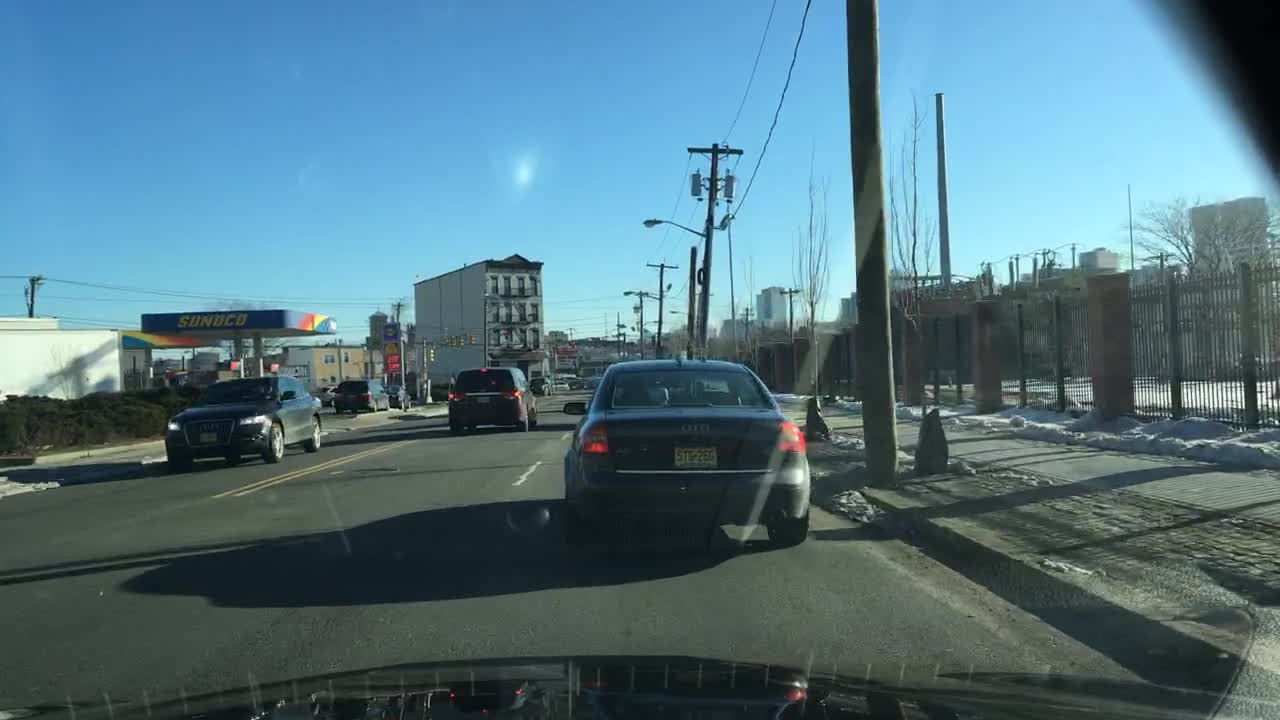car: (561, 353, 814, 545), (164, 373, 322, 472), (448, 368, 538, 433), (334, 377, 390, 413), (383, 382, 413, 408), (528, 376, 553, 396), (318, 384, 337, 404), (584, 376, 603, 392), (550, 378, 570, 392), (568, 377, 588, 390)
traffic light: (448, 332, 456, 347), (427, 347, 434, 361), (457, 335, 465, 346), (469, 332, 476, 344)
